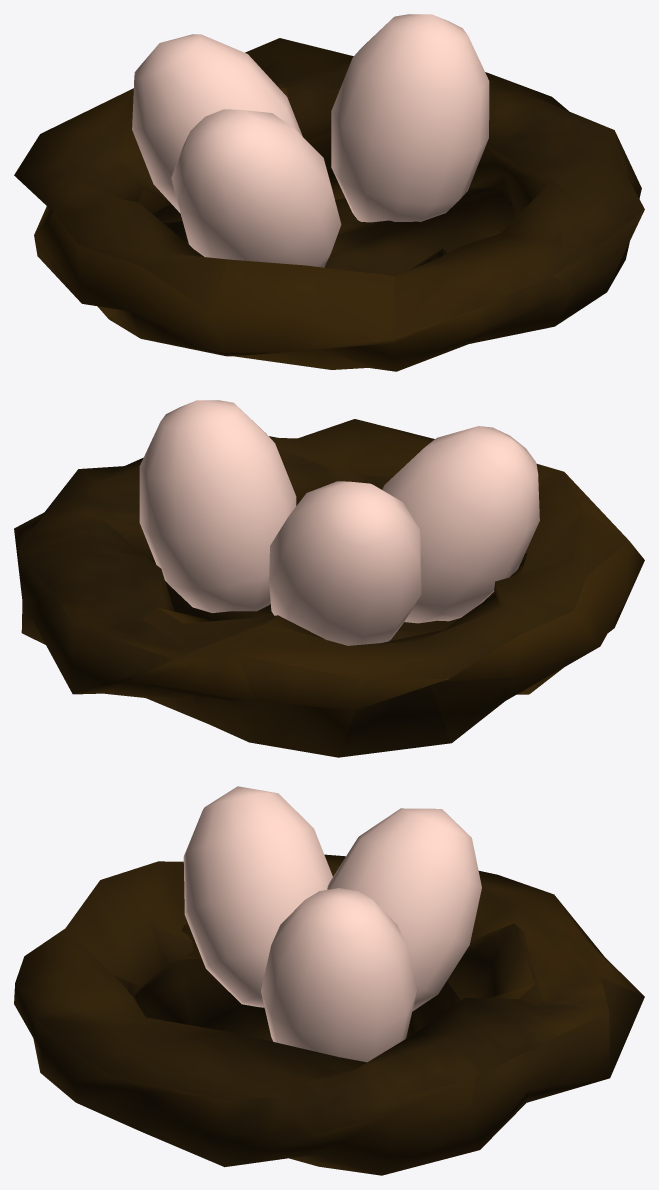
Rendered from NinhoDeOvos.fbx.
The picture shows the model from 3 angles, top to bottom: view 1: azimuth 30°, elevation 25°; view 2: azimuth 150°, elevation 25°; view 3: azimuth 270°, elevation 25°; orthographic projection. The views are drawn at different scales.
Parts seen in each view (by area): view 1: NinhoDeOvos; view 2: NinhoDeOvos; view 3: NinhoDeOvos.
Boxes of the visible parts, <box> form: NinhoDeOvos: <box>14,14,644,371</box>; NinhoDeOvos: <box>14,400,644,757</box>; NinhoDeOvos: <box>14,786,644,1175</box>.
Size of the model in its own units: 221 by 89.68 by 228.
